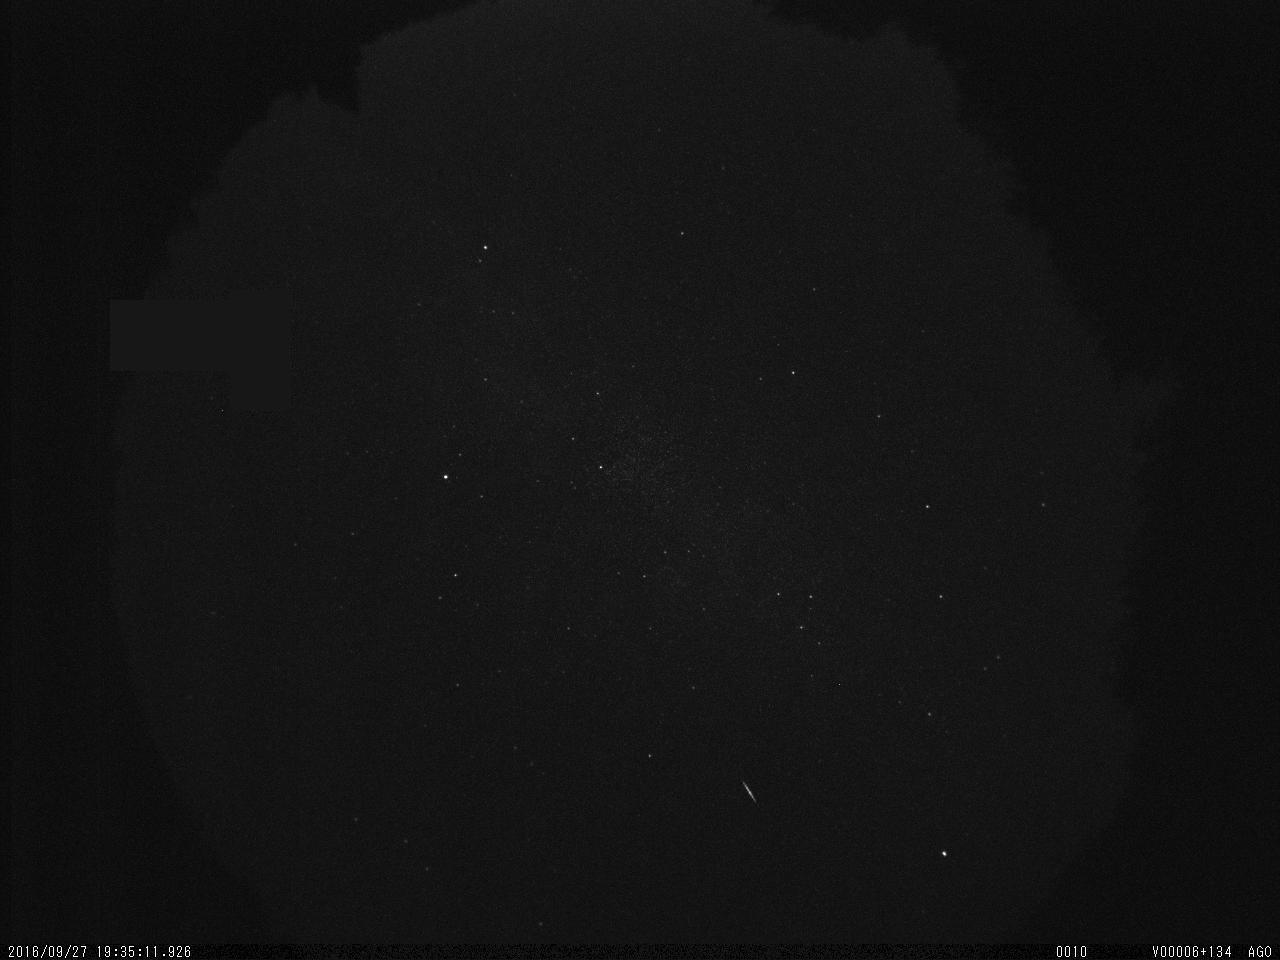meteor: (736, 775, 762, 810)
